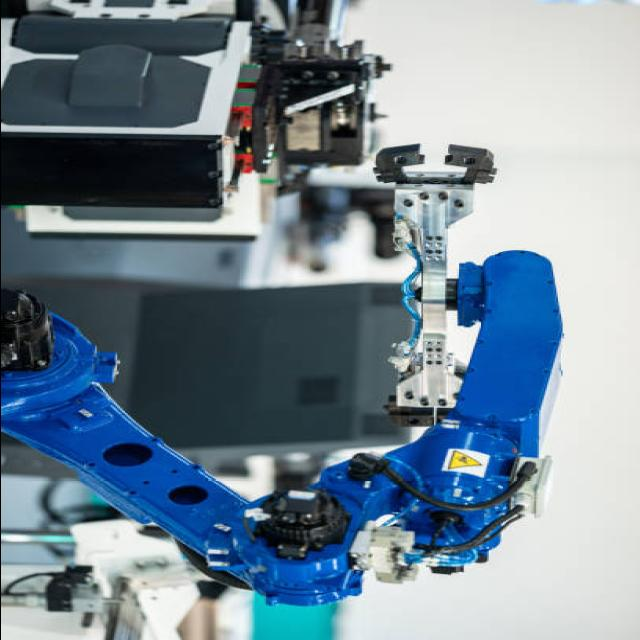Robotic-arm: (0, 242, 584, 610)
